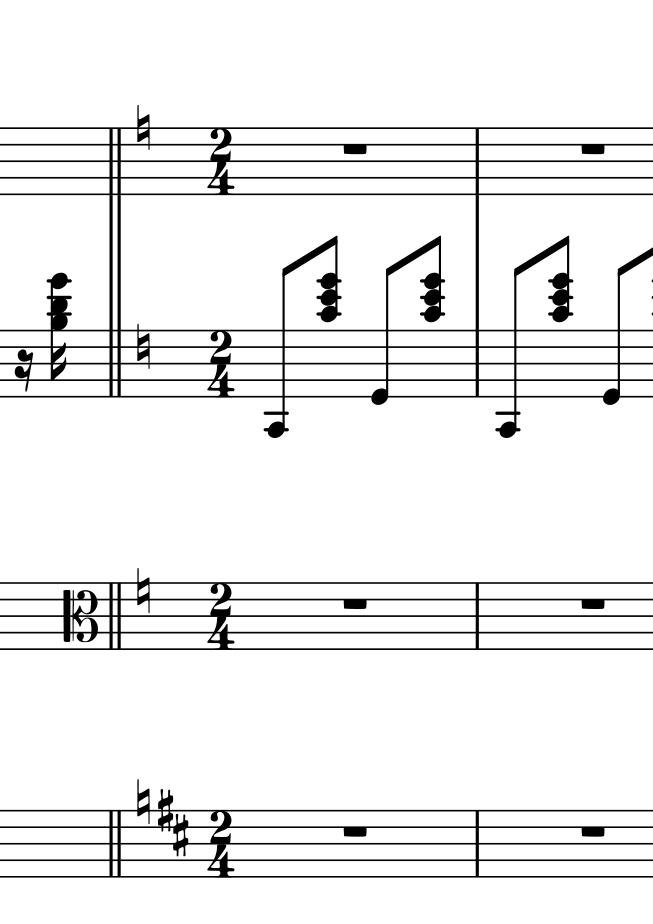16_th: (46, 271, 69, 398)
2: (205, 578, 236, 620), (205, 127, 237, 161), (206, 329, 235, 365), (209, 807, 235, 843)
4: (205, 610, 235, 651), (206, 842, 235, 878), (206, 162, 235, 197), (205, 365, 235, 398)
8_-4: (495, 261, 527, 438), (262, 262, 294, 439)
8_1: (598, 259, 634, 410), (371, 259, 401, 407)
8_th: (315, 230, 342, 400), (547, 232, 573, 398), (419, 234, 445, 399)
Cclef: (60, 581, 101, 650)
Double_barline: (104, 330, 127, 397), (105, 128, 126, 194), (105, 581, 125, 650), (107, 808, 124, 879)
Natural: (134, 102, 153, 153), (134, 566, 153, 617), (134, 776, 152, 827), (134, 322, 152, 371)
Rests1: (575, 594, 610, 614), (576, 822, 610, 841), (577, 139, 610, 158), (339, 821, 371, 840), (339, 140, 371, 158), (339, 594, 371, 612)
Rests16: (14, 348, 34, 393)
Single_barline: (469, 128, 486, 194), (469, 330, 485, 396), (470, 583, 485, 648), (470, 811, 484, 876)
TimeSig: (205, 126, 237, 197), (205, 329, 237, 398), (205, 581, 236, 650), (206, 809, 236, 879)
